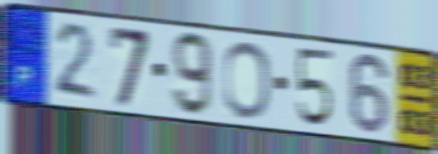2: (52, 19, 99, 106)
5: (294, 45, 336, 129)
6: (347, 51, 391, 136)
7: (107, 23, 151, 110)
9: (169, 29, 214, 120)
O: (221, 39, 273, 122)
